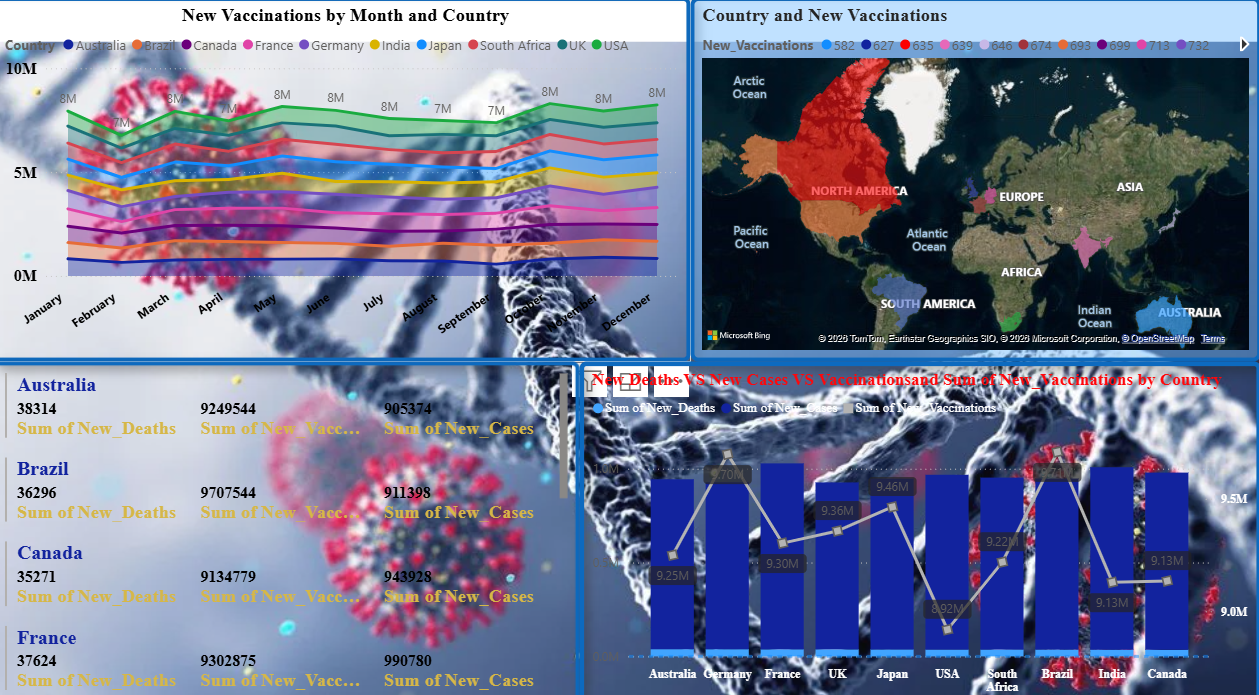

This screenshot's page, from the dashboard's own definition file:
{"tool":"powerbi","page":{"name":"New_deaths, Vaccinations & Cases","canvas":[1280,720],"ordinal":1},"visuals":[{"type":"stackedAreaChart","title":"New Vaccinations by Month and Country","fields":{"Series":["covid19_large_sample_data.Country"],"Category":["covid19_large_sample_data.Date.Variation.Date Hierarchy.Month"],"Y":["Sum(covid19_large_sample_data.New_Vaccinations)"]},"box":[0,0,704,368],"z":0},{"type":"filledMap","title":"Country and New Vaccinations","fields":{"Category":["covid19_large_sample_data.Country"],"Series":["covid19_large_sample_data.New_Vaccinations"]},"box":[704,0,576,368],"z":1000},{"type":"multiRowCard","fields":{"Values":["covid19_large_sample_data.Country","Sum(covid19_large_sample_data.New_Deaths)","Sum(covid19_large_sample_data.New_Vaccinations)","Sum(covid19_large_sample_data.New_Cases)"]},"box":[0,368,592,352],"z":2000},{"type":"lineStackedColumnComboChart","title":" New Deaths VS New Cases VS Vaccinationsand Sum of New_Vaccinations by Country","fields":{"Category":["covid19_large_sample_data.Country"],"Y":["Sum(covid19_large_sample_data.New_Deaths)","Sum(covid19_large_sample_data.New_Cases)"],"Y2":["Sum(covid19_large_sample_data.New_Vaccinations)"]},"box":[592,368,688,352],"z":3000}]}

Visuals, with their boxes in screenshot pixels (x1, y1, x2, y2), scaled from the page's 1280x720 canvas onto the 1259x695 screenshot:
"New Vaccinations by Month and Country" stackedAreaChart: locate(0, 0, 692, 355)
"Country and New Vaccinations" filledMap: locate(692, 0, 1258, 355)
multiRowCard - covid19_large_sample_data.Country x Sum(covid19_large_sample_data.New_Deaths): locate(0, 355, 582, 694)
" New Deaths VS New Cases VS Vaccinationsand Sum of New_Vaccinations by Country" lineStackedColumnComboChart: locate(582, 355, 1258, 694)
